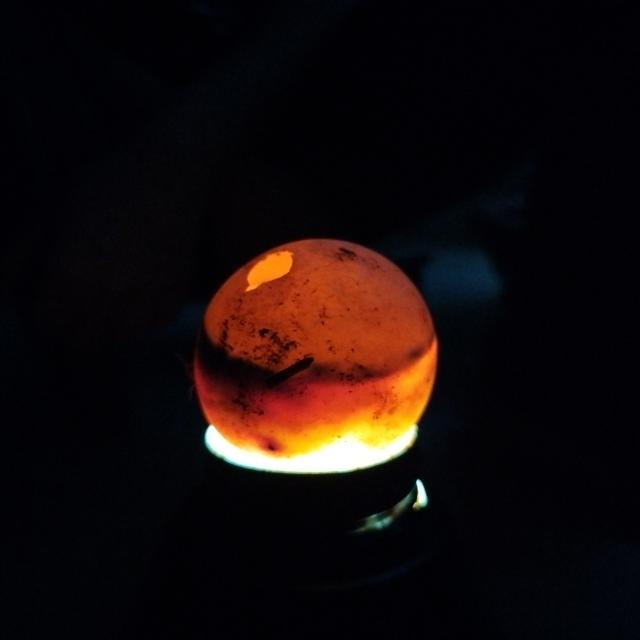Area Infectada: (192, 298, 437, 423)
